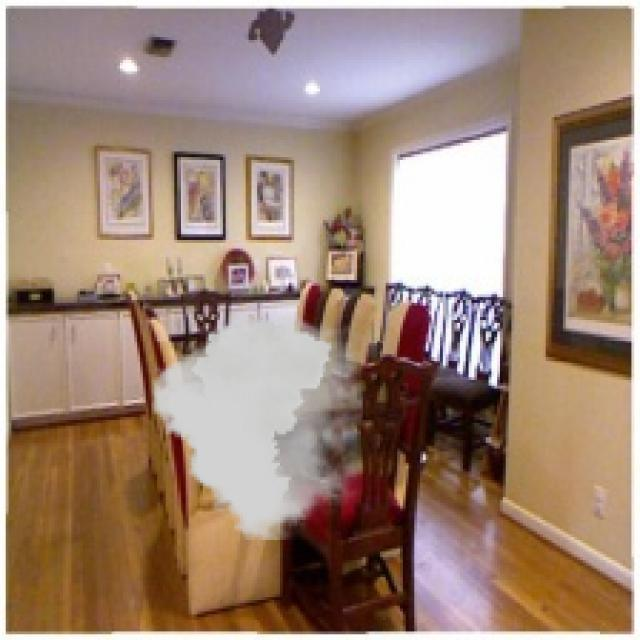Smoke: (151, 311, 363, 540)
